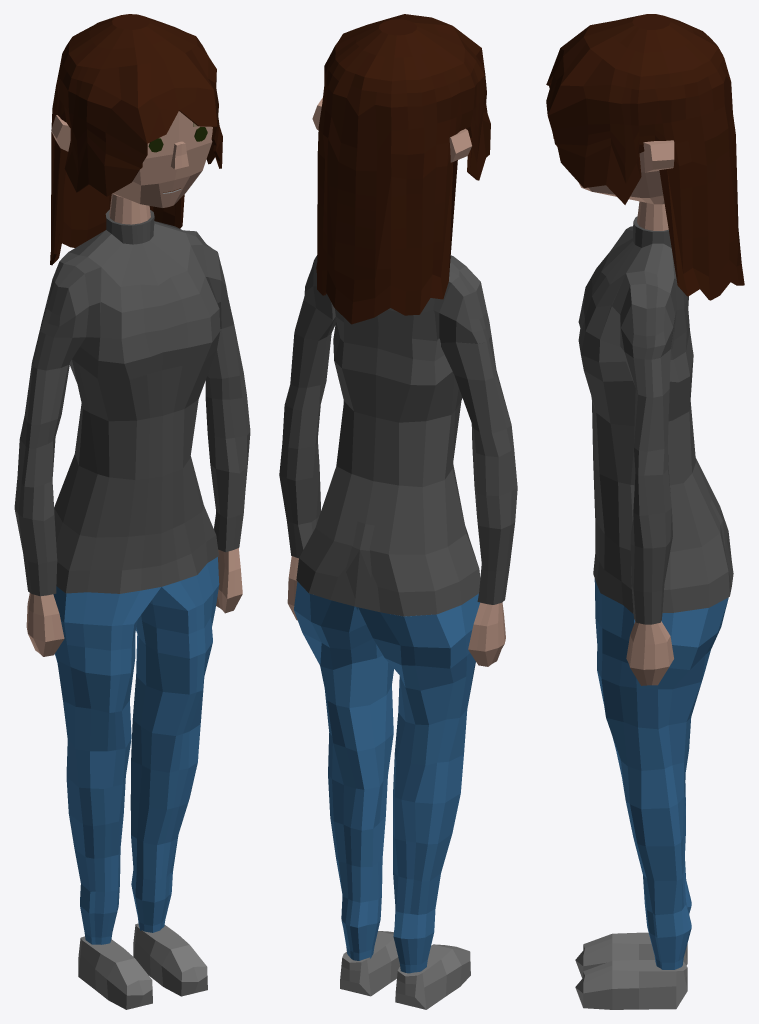
File: npcfemale3.fbx
The picture shows the model from 3 angles, left to right: view 1: azimuth 30°, elevation 25°; view 2: azimuth 150°, elevation 25°; view 3: azimuth 270°, elevation 25°; orthographic projection.
Visible parts, largest first — view 1: Cylinder.005; view 2: Cylinder.005; view 3: Cylinder.005.
Boxes of the visible parts, bbox=[...] form: Cylinder.005: bbox=[14, 14, 250, 1009]; Cylinder.005: bbox=[279, 14, 517, 1009]; Cylinder.005: bbox=[546, 14, 744, 1009].
Bounding box in the file's own units: 36.17 × 146 × 27.2.
